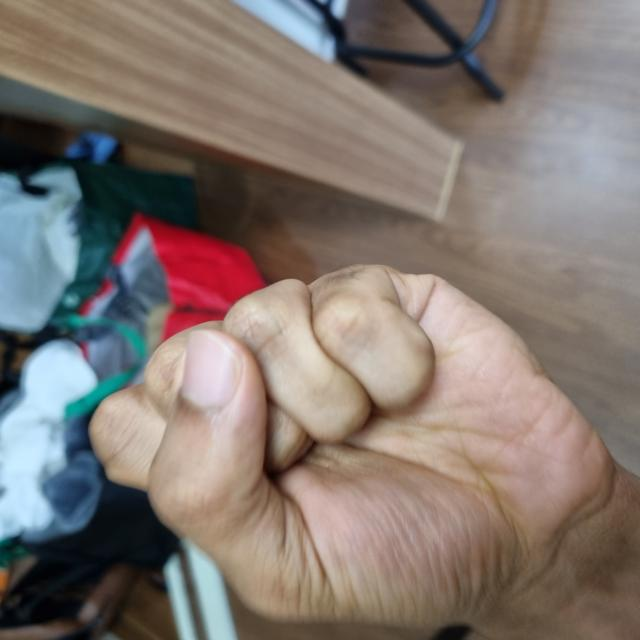Rock: (4, 108, 368, 618)
